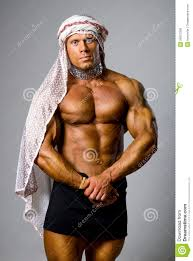middle_eastern_male: (68, 33, 105, 74)
